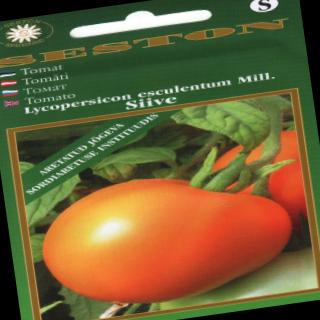Tomat: (31, 157, 306, 320)
